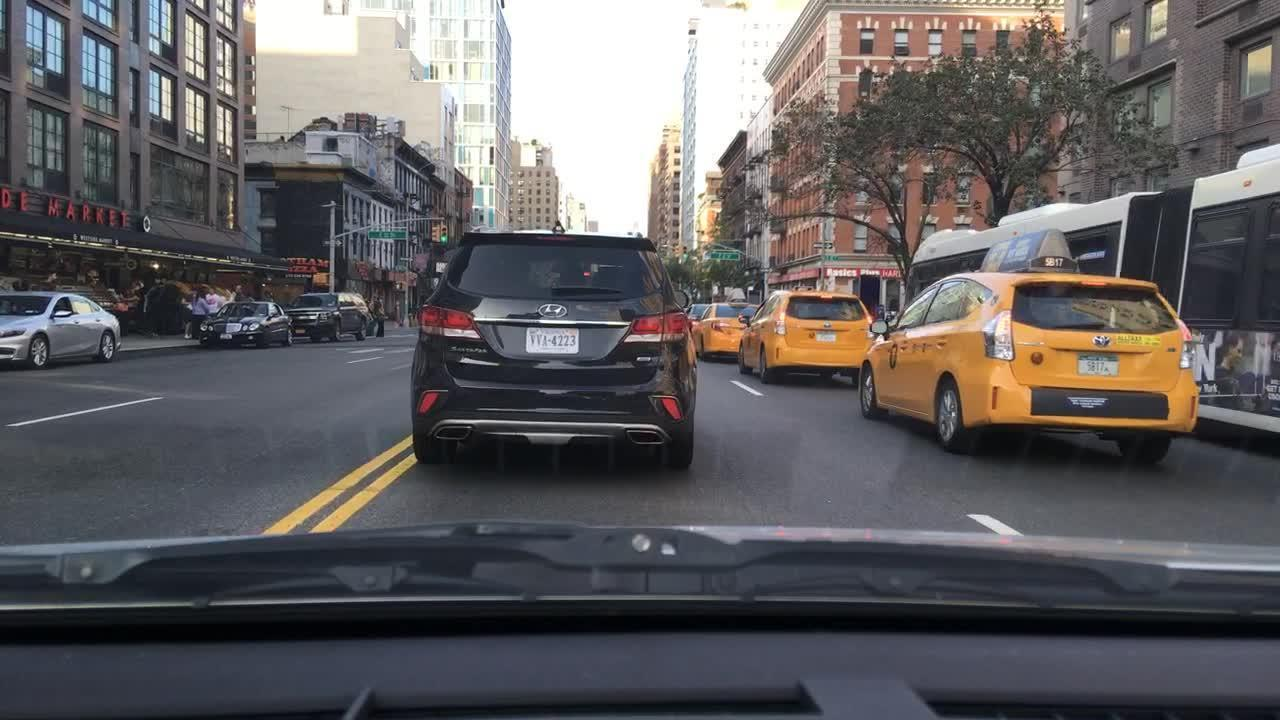Hyundai: (537, 300, 571, 323)
Toyota: (1088, 331, 1116, 347)
